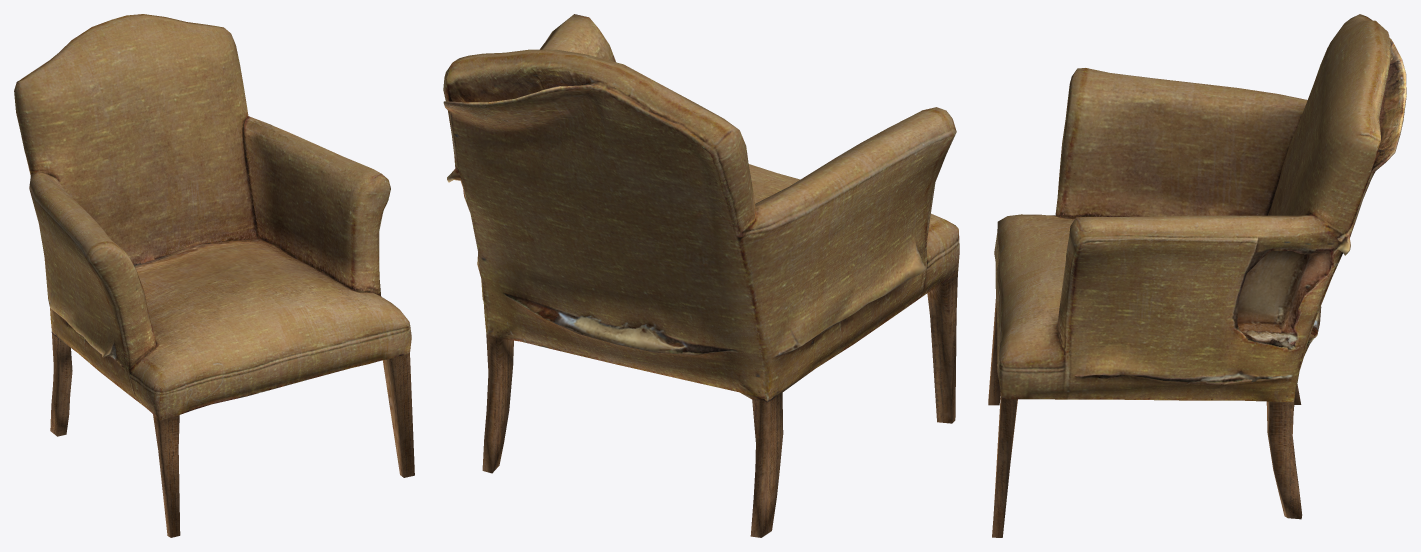
Rendered from chair.glb.
3 views of the same model, side by side, from view 1: azimuth 30°, elevation 25°; view 2: azimuth 150°, elevation 25°; view 3: azimuth 270°, elevation 25° (orthographic). The views are drawn at different scales.
Visible parts, largest first — view 1: chair_low; view 2: chair_low; view 3: chair_low.
Boxes of the visible parts, x1,y1,x2,y2 form: chair_low: (14, 14, 414, 537); chair_low: (443, 14, 959, 537); chair_low: (988, 14, 1406, 537).
Size of the model in its own units: 10.17 by 11.93 by 10.54.
1 material, 1 textured.
